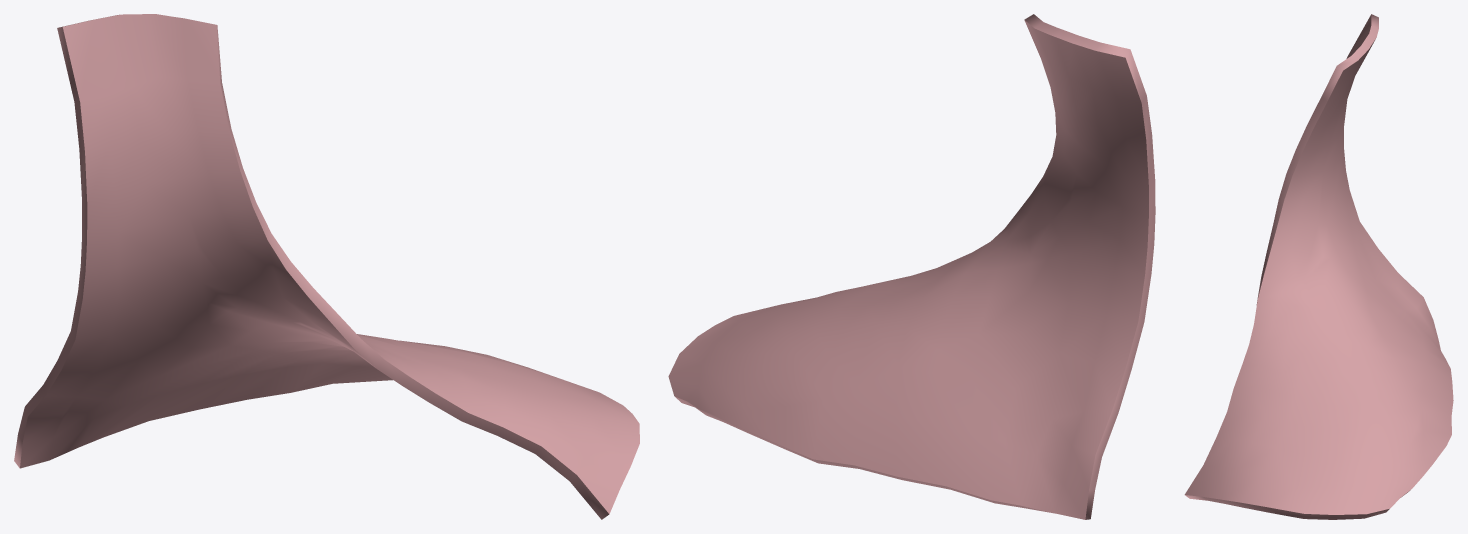
3 views of the same model, side by side, from view 1: azimuth 30°, elevation 25°; view 2: azimuth 150°, elevation 25°; view 3: azimuth 270°, elevation 25° (orthographic). The views are drawn at different scales.
Visible parts, largest first — view 1: ZA_f125ef7fdb691b01; view 2: ZA_f125ef7fdb691b01; view 3: ZA_f125ef7fdb691b01.
Boxes of the visible parts, x1,y1,x2,y2 form: ZA_f125ef7fdb691b01: (14, 14, 639, 519); ZA_f125ef7fdb691b01: (668, 14, 1155, 519); ZA_f125ef7fdb691b01: (1184, 14, 1453, 519).
Bounding box in the file's own units: 0.1463 × 0.1351 × 0.0952.
